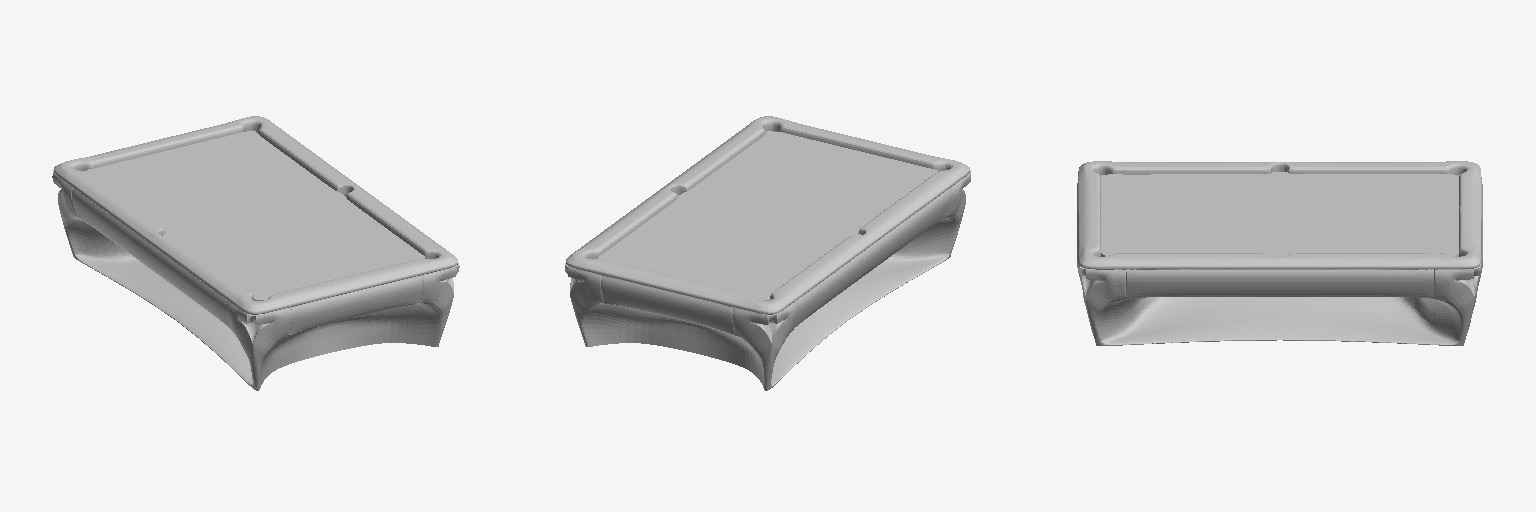
File: pooltable_old.obj
3 renders of one model, left to right at view 1: azimuth 30°, elevation 25°; view 2: azimuth 150°, elevation 25°; view 3: azimuth 270°, elevation 25°, orthographic.
Size of the model in its own units: 7.67 by 3.1 by 12.47.